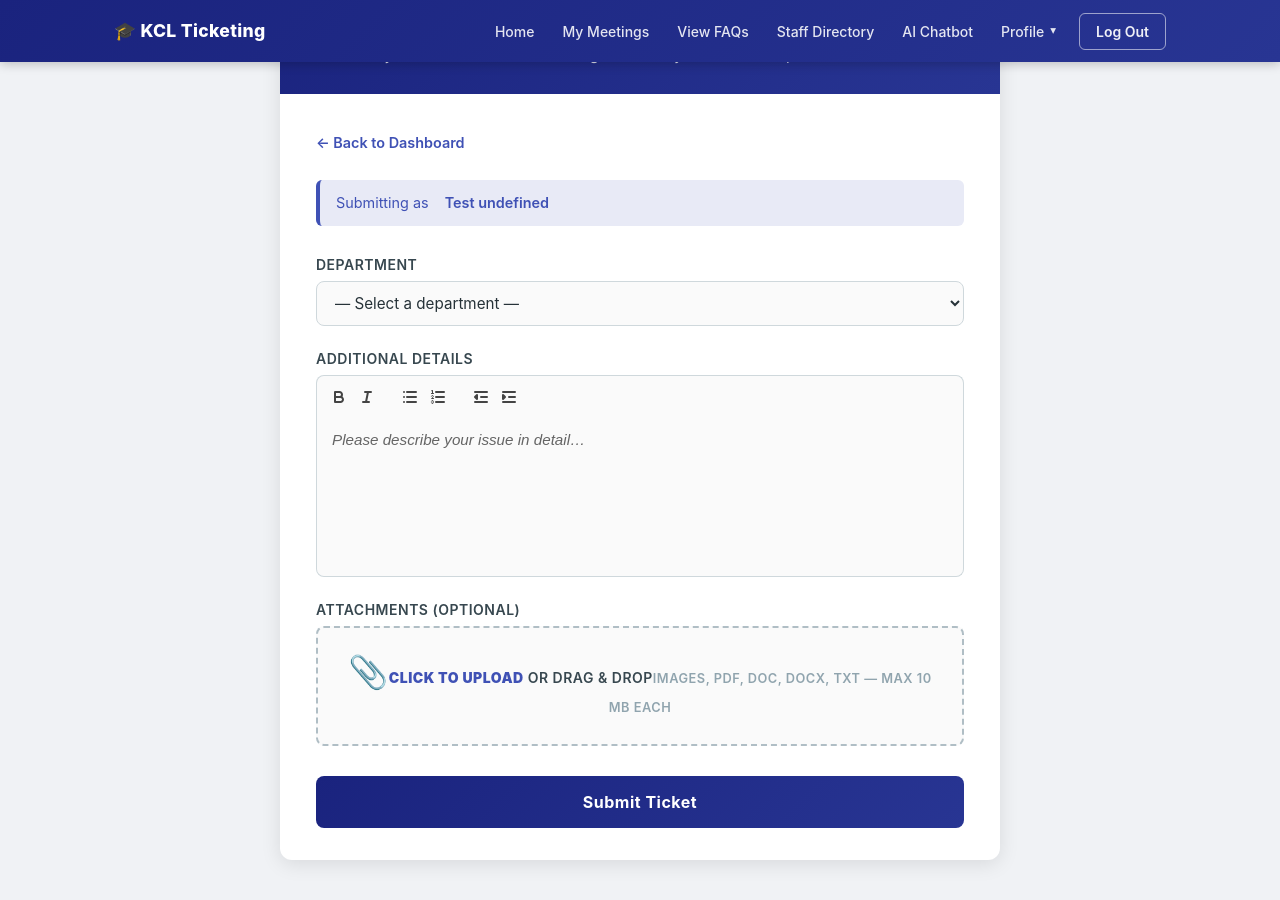
Scenario: TicketFormPage › shows validation errors when submitting empty
This screenshot has width=1280, height=900.
(page scrolled)
Click the button "Submit Ticket".
click(640, 802)  # box [316,776,964,828]
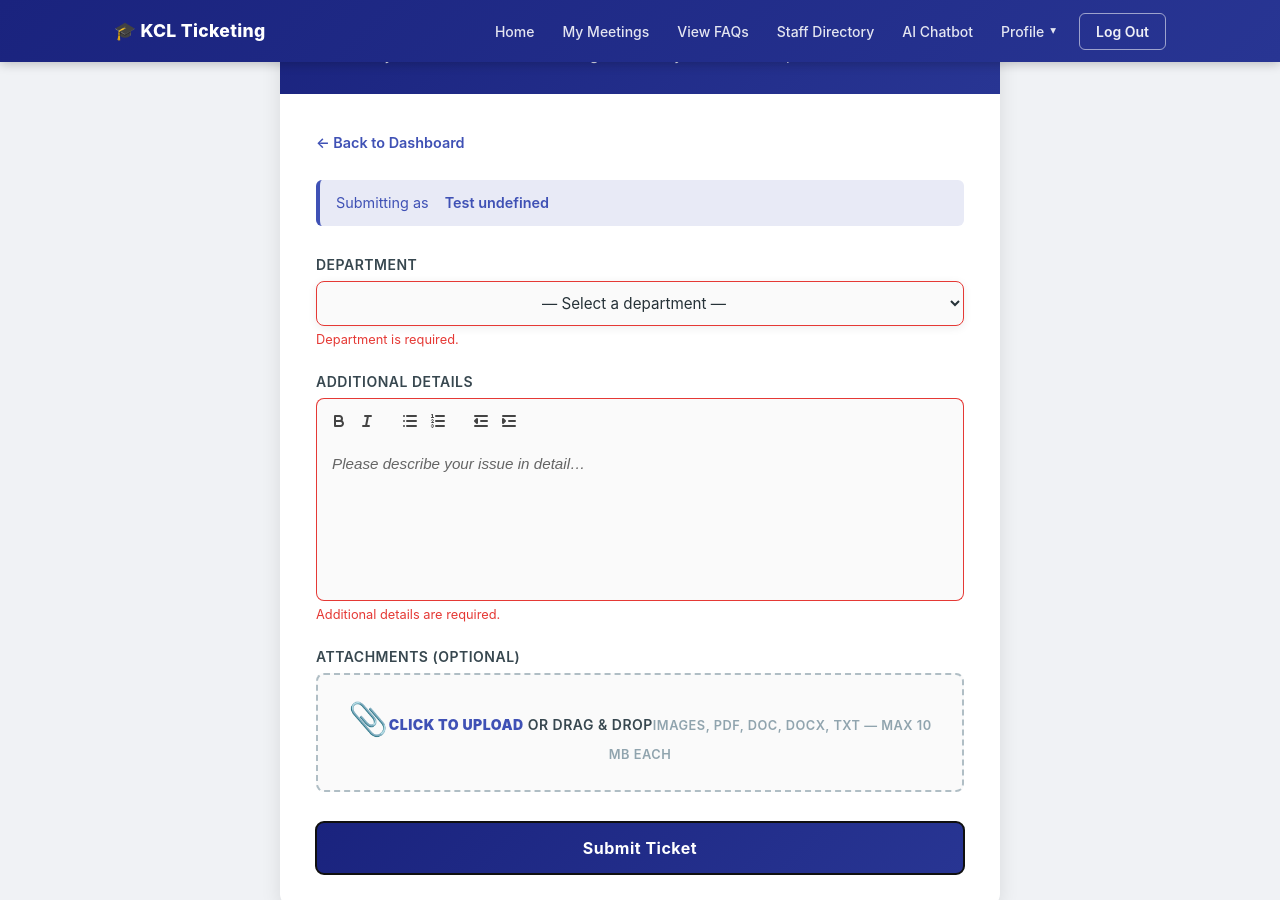
Result: the text "Department is required." is shown at [316,332,459,347]
